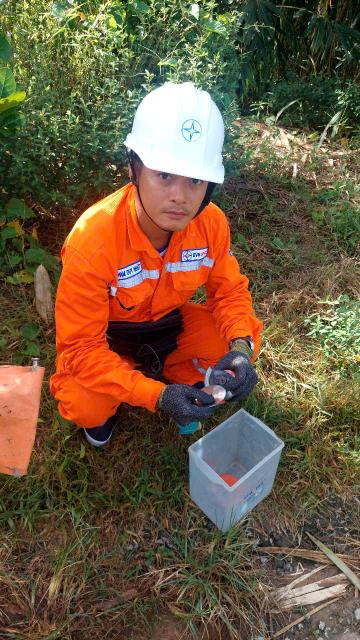gloves: (198, 334, 283, 415), (143, 371, 223, 442)
helmet: (122, 78, 238, 182)
shoes: (55, 393, 137, 461)
